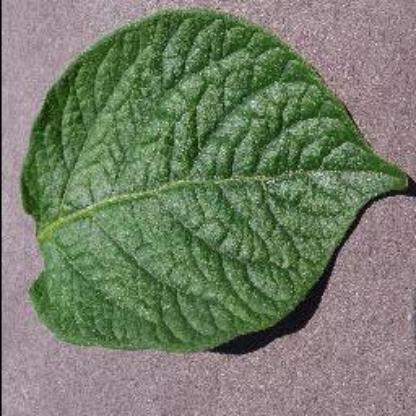Healthy-plant: (20, 11, 412, 354)
